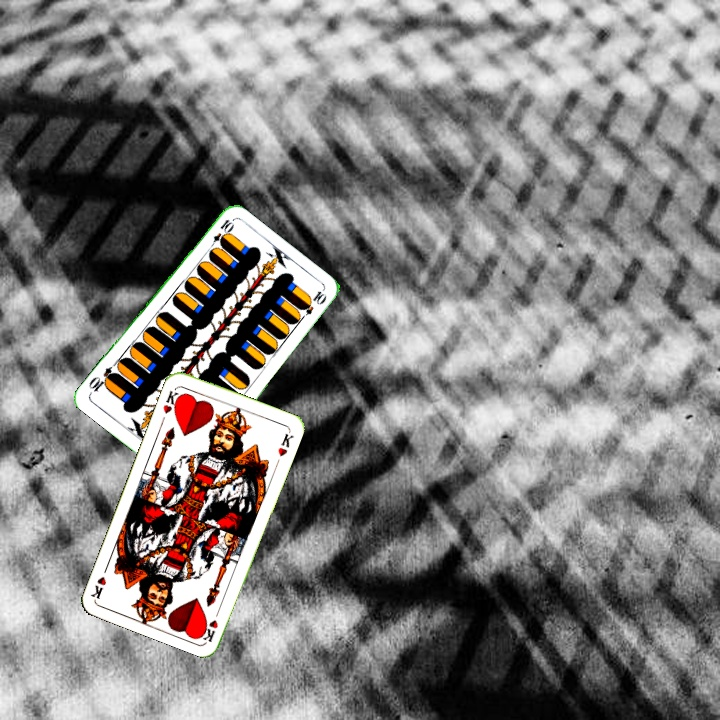E10: (205, 215, 236, 252)
HK: (199, 604, 223, 644), (159, 386, 184, 416)
